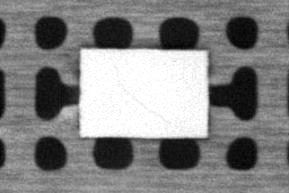DIE_CRACK: (111, 63, 174, 126)
